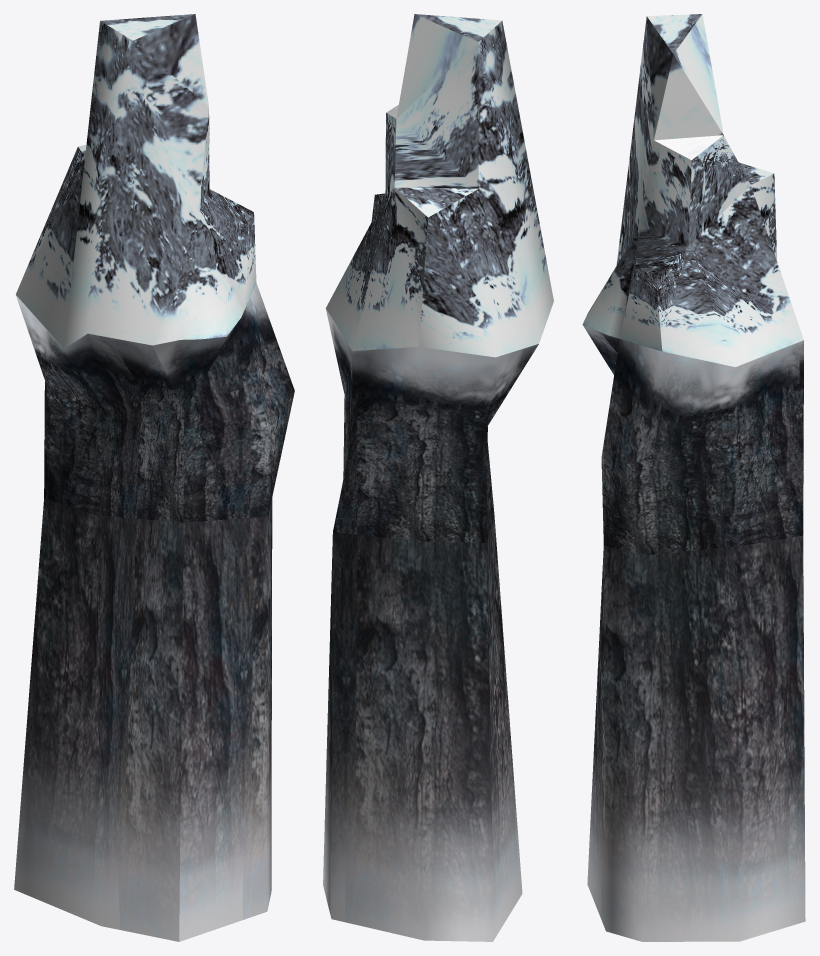
File: san009.obj
3 renders of one model, left to right at view 1: azimuth 30°, elevation 25°; view 2: azimuth 150°, elevation 25°; view 3: azimuth 270°, elevation 25°, orthographic. The views are drawn at different scales.
Parts seen in each view (by area): view 1: san009; view 2: san009; view 3: san009.
Boxes of the visible parts, x1,y1,x2,y2 form: san009: (14,14,294,941); san009: (323,14,553,941); san009: (582,14,805,941).
Bounding box in the file's own units: 222 × 887 × 208.
